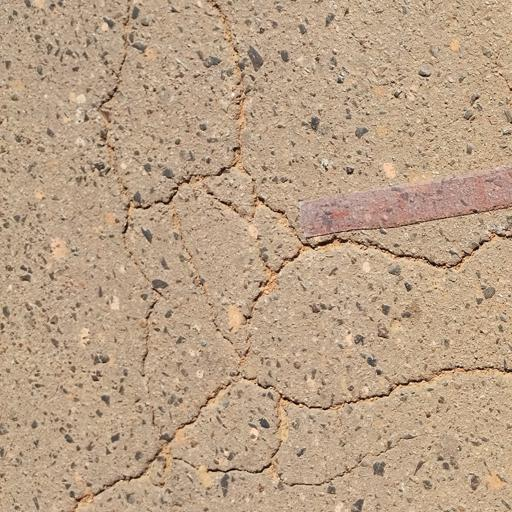PIEL DE COCODRILO: (58, 0, 511, 511)
